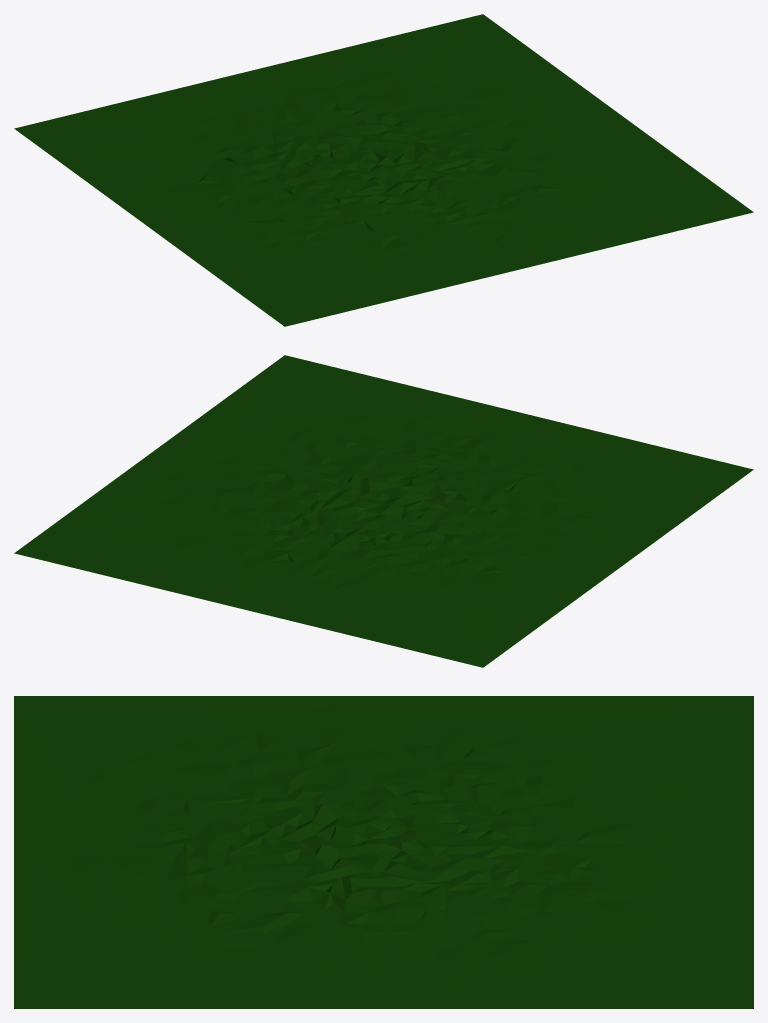
The model's file is Terrain_Part_Plane_4.fbx.
3 renders of one model, top to bottom at view 1: azimuth 30°, elevation 25°; view 2: azimuth 150°, elevation 25°; view 3: azimuth 270°, elevation 25°, orthographic. The views are drawn at different scales.
Parts seen in each view (by area): view 1: Terrain_Part_Plane_4; view 2: Terrain_Part_Plane_4; view 3: Terrain_Part_Plane_4.
Boxes of the visible parts, x1,y1,x2,y2 form: Terrain_Part_Plane_4: (14, 14, 753, 326); Terrain_Part_Plane_4: (14, 355, 753, 667); Terrain_Part_Plane_4: (14, 696, 753, 1008).
Size of the model in its own units: 2000 by 19.25 by 2000.
